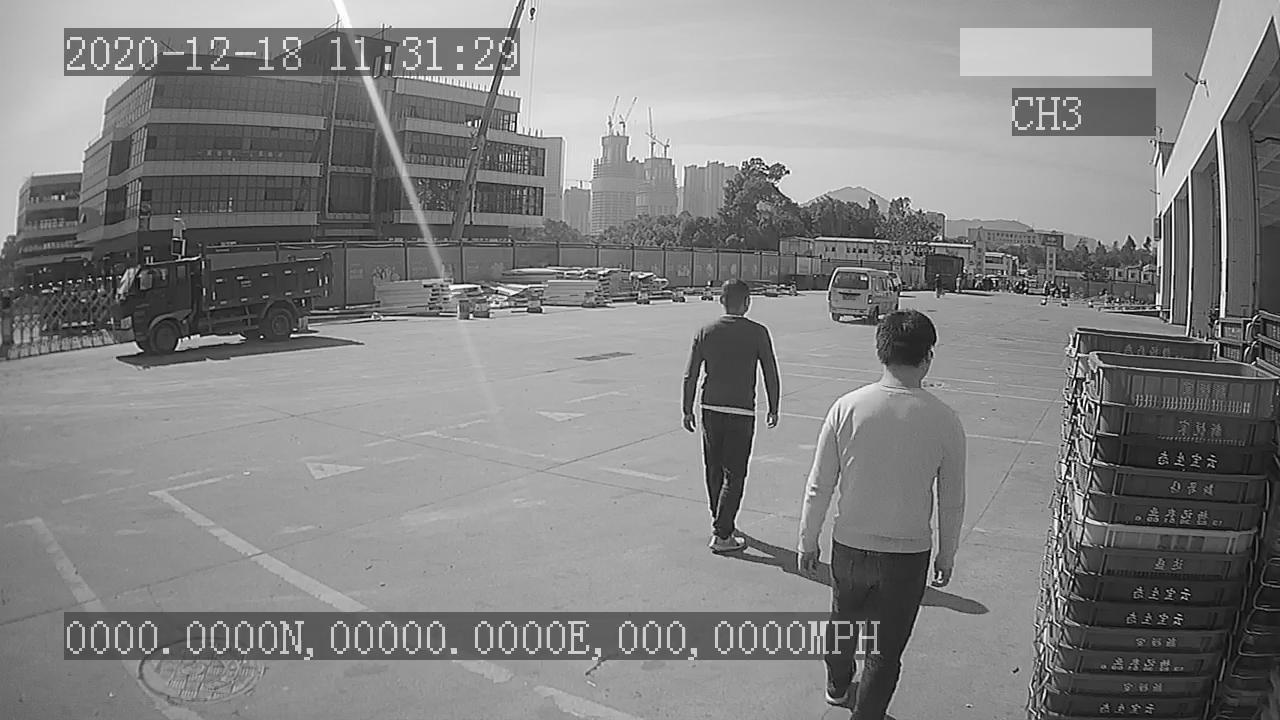person: (680, 273, 786, 556)
